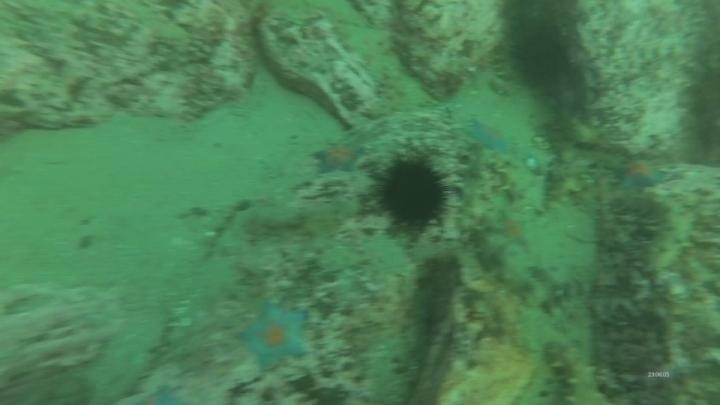echinus: (372, 153, 454, 232), (506, 22, 573, 91)
holothurian: (639, 196, 698, 280), (541, 339, 608, 405), (492, 151, 552, 217), (454, 141, 493, 223)
starfish: (237, 301, 313, 373), (310, 137, 366, 177), (609, 156, 669, 193), (465, 116, 517, 157), (488, 208, 534, 252)
